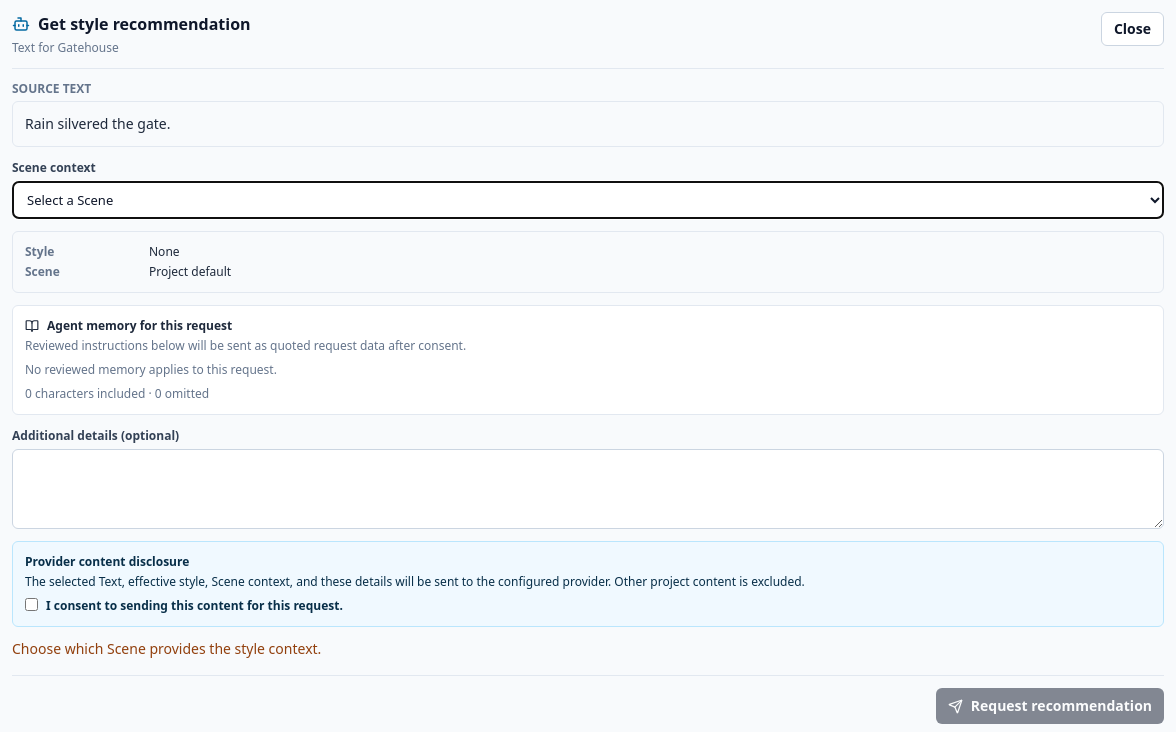
Test: StyleRecommendationRequest › requires explicit Scene selection for shared content
Select "Departure" in the dropdown labelled "Scene context" at point(588, 200), box [12,181,1164,219]
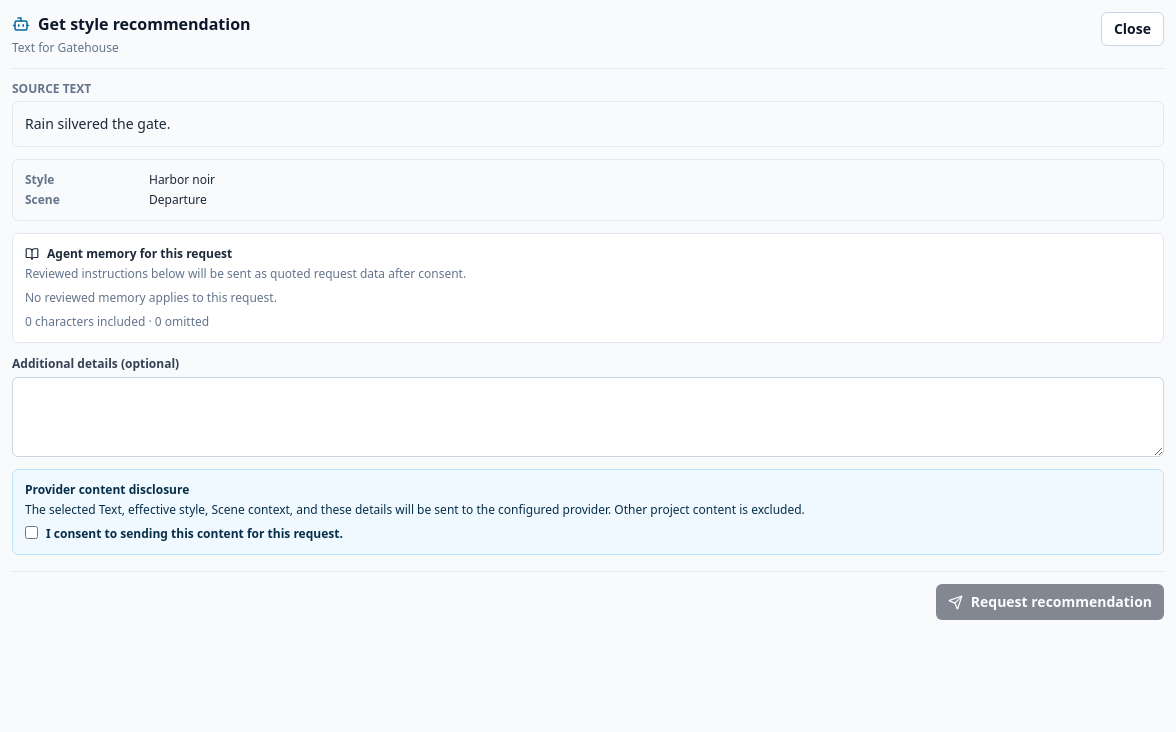
Expected: the text "Departure" is shown, [149,191,207,208]
